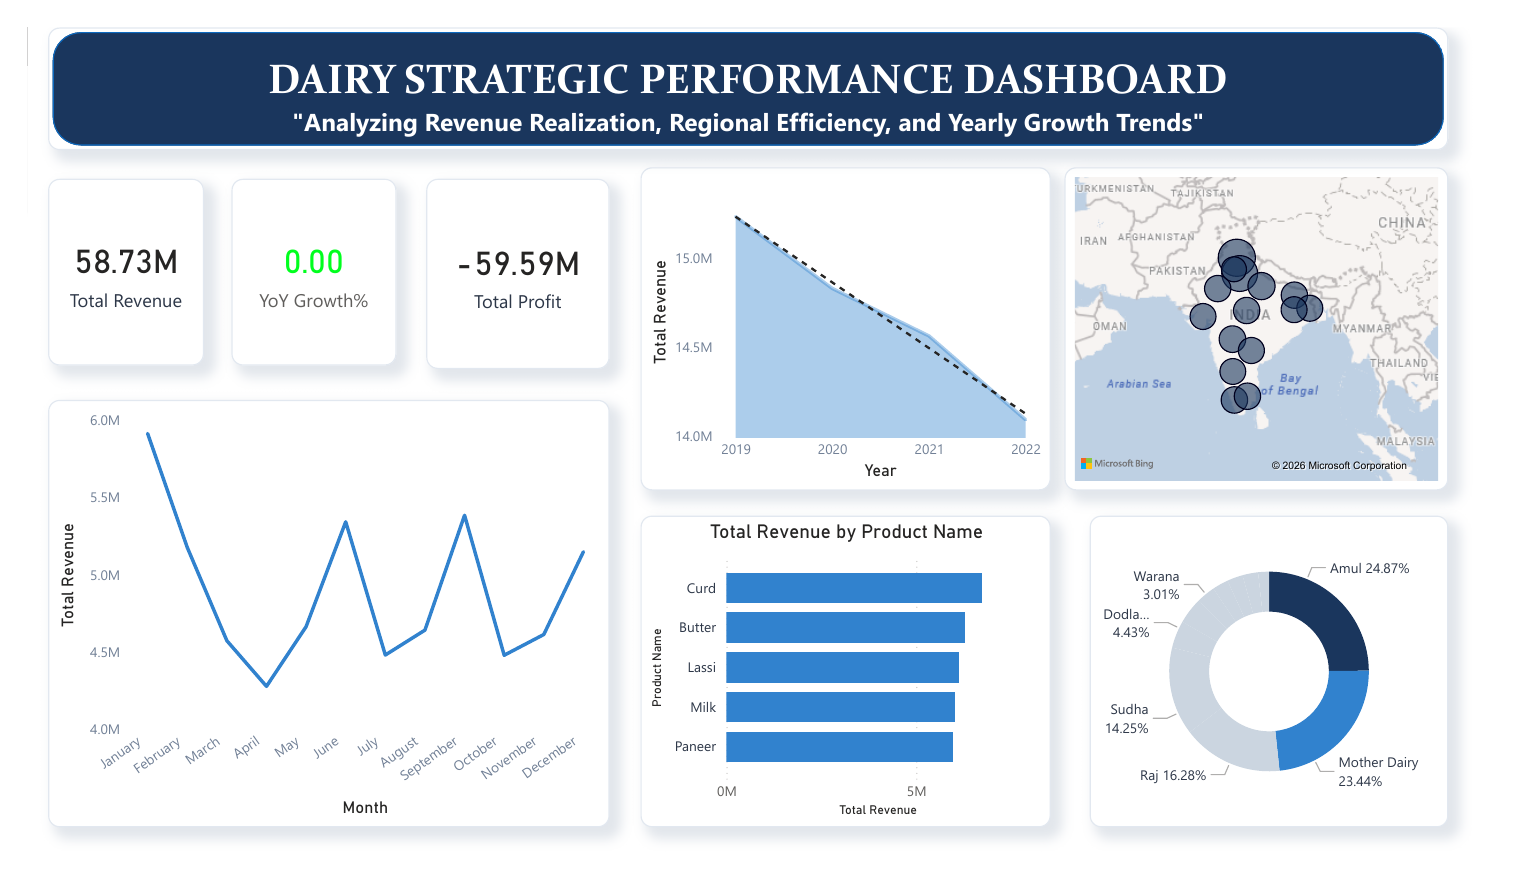

What the dashboard file says about the page in this screenshot:
{"tool":"powerbi","page":{"name":"Page 1","canvas":[1280,720],"ordinal":0},"visuals":[{"type":"card","fields":{"Values":["tugas ashafa.Total Revenue"]},"box":[17.6,132.2,136.7,163.1],"z":0},{"type":"areaChart","fields":{"Category":["Calendar.Date.Variation.Date Hierarchy.Year","Calendar.Date.Variation.Date Hierarchy.Month"],"Y":["tugas ashafa.Total Revenue"]},"box":[534.9,122,358.5,282.1],"z":1000},{"type":"lineChart","fields":{"Category":["Calendar.Date.Variation.Date Hierarchy.Month"],"Y":["tugas ashafa.Total Revenue"]},"box":[17.6,324.7,490.8,373.2],"z":2000},{"type":"map","fields":{"Category":["tugas ashafa.Location"],"Size":["tugas ashafa.Total Revenue"]},"box":[905.1,122,335,282.1],"z":3000},{"type":"donutChart","fields":{"Category":["tugas ashafa.Brand"],"Y":["tugas ashafa.% Revenue Contribution"]},"box":[927.2,426.1,313,271.8],"z":4000},{"type":"clusteredBarChart","fields":{"Category":["tugas ashafa.Product Name"],"Y":["tugas ashafa.Total Revenue"]},"box":[534.9,426.1,358.5,271.8],"z":5000},{"type":"card","fields":{"Values":["tugas ashafa.YoY Growth%"]},"box":[177.8,132.2,144,163.1],"z":6000},{"type":"card","fields":{"Values":["tugas ashafa.Total Profit"]},"box":[348.2,132.2,160.2,166],"z":7000},{"type":"shape","title":"D","box":[17.9,0,1222.2,107.4],"z":8000},{"type":"textbox","box":[107.7,68.4,1042.5,39.3],"z":9000}]}

Visuals, with their boxes in screenshot pixels (x1, y1, x2, y2), scaled from the page's 1280x720 canvas onto the 1522x880 screenshot:
card - tugas ashafa.Total Revenue: detection(21, 162, 183, 361)
areaChart - Calendar.Date.Variation.Date Hierarchy.Year x Calendar.Date.Variation.Date Hierarchy.Month: detection(636, 149, 1062, 494)
lineChart - Calendar.Date.Variation.Date Hierarchy.Month x tugas ashafa.Total Revenue: detection(21, 397, 605, 853)
map - tugas ashafa.Location x tugas ashafa.Total Revenue: detection(1076, 149, 1475, 494)
donutChart - tugas ashafa.Brand x tugas ashafa.% Revenue Contribution: detection(1102, 521, 1475, 853)
clusteredBarChart - tugas ashafa.Product Name x tugas ashafa.Total Revenue: detection(636, 521, 1062, 853)
card - tugas ashafa.YoY Growth%: detection(211, 162, 383, 361)
card - tugas ashafa.Total Profit: detection(414, 162, 605, 364)
"D" shape: detection(21, 0, 1475, 131)
textbox: detection(128, 84, 1368, 132)
